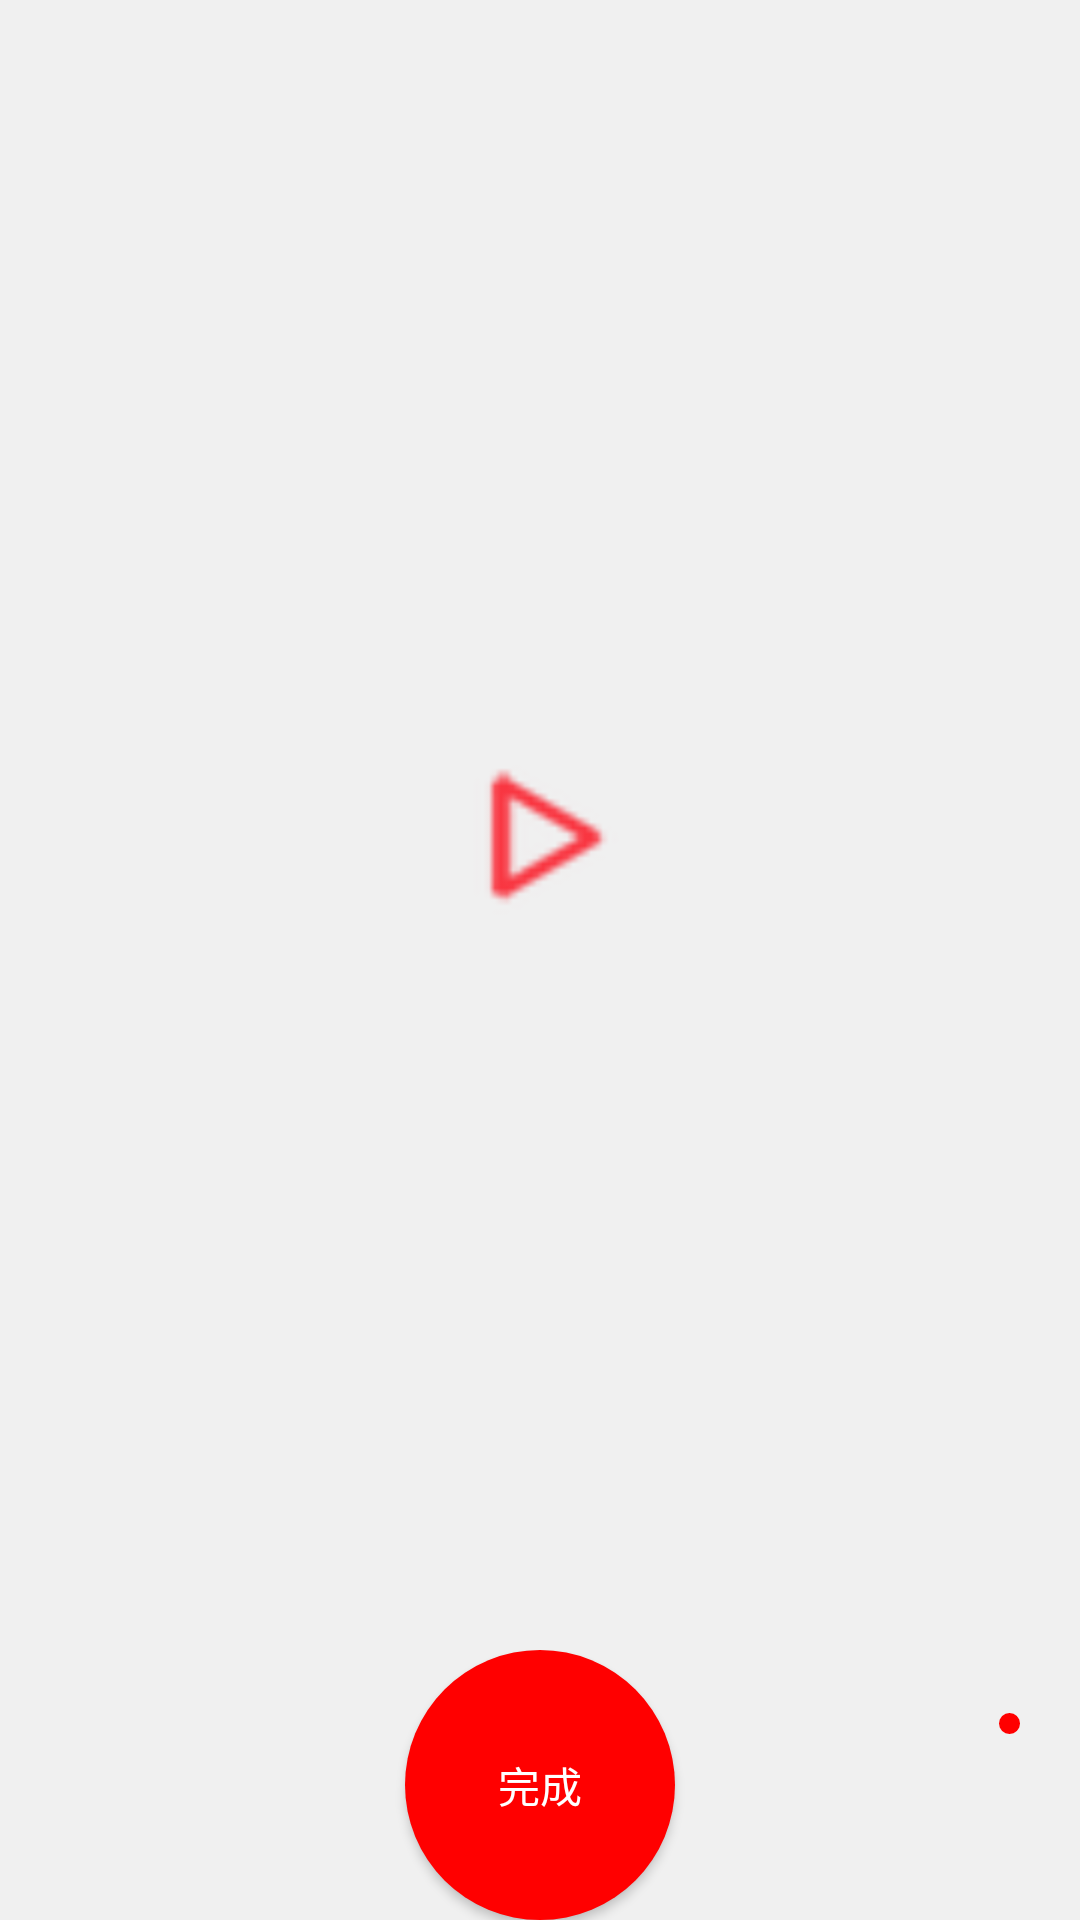

Where icons sit on this 1080×1920 app screen, as detection(x1, y1, x2, y2):
play: detection(490, 770, 604, 901)
